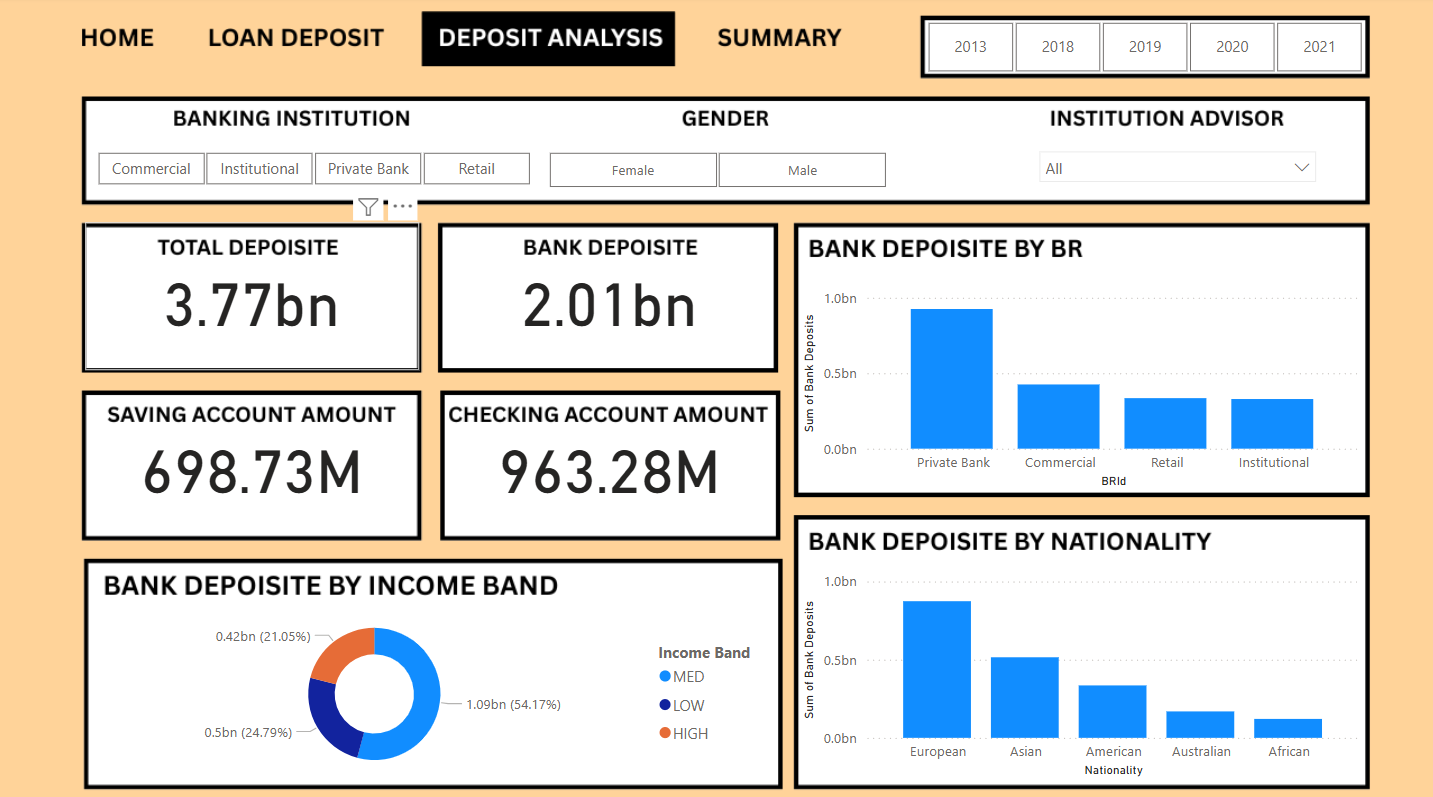

This screenshot's page, from the dashboard's own definition file:
{"tool":"powerbi","page":{"name":"Deposite Analysis","canvas":[1280,720],"ordinal":2},"visuals":[{"type":"slicer","fields":{"Values":["Banking_Clients.BRId"]},"box":[62.7,132.7,434.3,42.2],"z":0},{"type":"slicer","fields":{"Values":["Banking_Clients.GenderId"]},"box":[464.5,132.7,349.9,44.6],"z":1000},{"type":"slicer","fields":{"Values":["Banking_Clients.IAId"]},"box":[915.7,127.9,266.6,49.5],"z":2000},{"type":"card","fields":{"Values":["Banking_Clients.Total Deposite"]},"box":[77.2,201.5,296.8,132.7],"z":3000},{"type":"card","fields":{"Values":["Sum(Banking_Clients.Bank Deposits)"]},"box":[395.7,201.5,296.8,132.7],"z":4000},{"type":"card","fields":{"Values":["Sum(Banking_Clients.Saving Accounts)"]},"box":[77.2,351.1,296.8,131.5],"z":5000},{"type":"card","fields":{"Values":["Sum(Banking_Clients.Checking Accounts)"]},"box":[395.7,351.1,296.8,131.5],"z":6000},{"type":"donutChart","fields":{"Y":["Sum(Banking_Clients.Bank Deposits)"],"Category":["Banking_Clients.Income Band"]},"box":[77.2,541.7,615.3,159.3],"z":7000},{"type":"clusteredColumnChart","fields":{"Y":["Sum(Banking_Clients.Bank Deposits)"],"Category":["Banking_Clients.BRId"]},"box":[711.8,254.6,505.5,188.2],"z":8000},{"type":"clusteredColumnChart","fields":{"Y":["Sum(Banking_Clients.Bank Deposits)"],"Category":["Banking_Clients.Nationality"]},"box":[711.8,507.9,505.5,193],"z":9000},{"type":"actionButton","box":[54.3,16.9,100.1,39.8],"z":10000},{"type":"actionButton","box":[179.8,16.9,170.1,39.8],"z":11000},{"type":"actionButton","box":[631,13.3,125.5,43.4],"z":12000},{"type":"slicer","fields":{"Values":["Banking_Clients.Year Of Joining"]},"box":[801.4,16.5,436.4,57.6],"z":13000}]}

Visuals, with their boxes in screenshot pixels (x1, y1, x2, y2), scaled from the page's 1280x720 canvas onto the 1433x797 screenshot:
slicer - Banking_Clients.BRId: 70,147,556,194
slicer - Banking_Clients.GenderId: 520,147,912,196
slicer - Banking_Clients.IAId: 1025,142,1324,196
card - Banking_Clients.Total Deposite: 86,223,419,370
card - Sum(Banking_Clients.Bank Deposits): 443,223,775,370
card - Sum(Banking_Clients.Saving Accounts): 86,389,419,534
card - Sum(Banking_Clients.Checking Accounts): 443,389,775,534
donutChart - Sum(Banking_Clients.Bank Deposits) x Banking_Clients.Income Band: 86,600,775,776
clusteredColumnChart - Sum(Banking_Clients.Bank Deposits) x Banking_Clients.BRId: 797,282,1363,490
clusteredColumnChart - Sum(Banking_Clients.Bank Deposits) x Banking_Clients.Nationality: 797,562,1363,776
actionButton: 61,19,173,63
actionButton: 201,19,392,63
actionButton: 706,15,847,63
slicer - Banking_Clients.Year Of Joining: 897,18,1386,82
